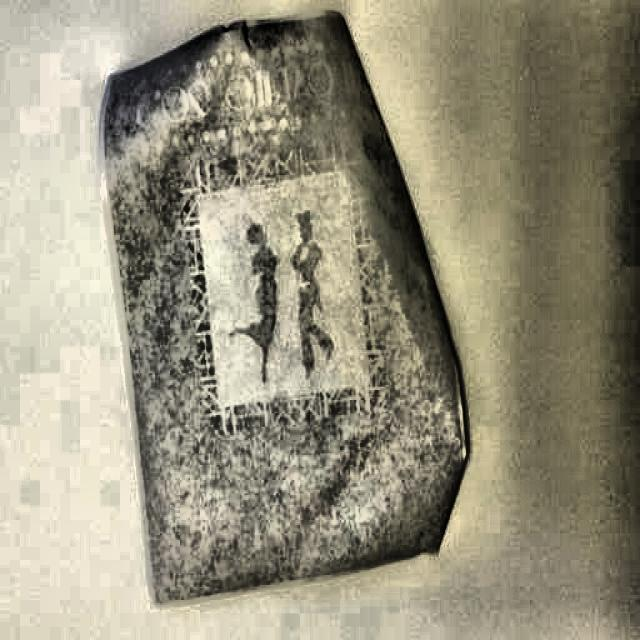paper: (94, 8, 468, 604)
